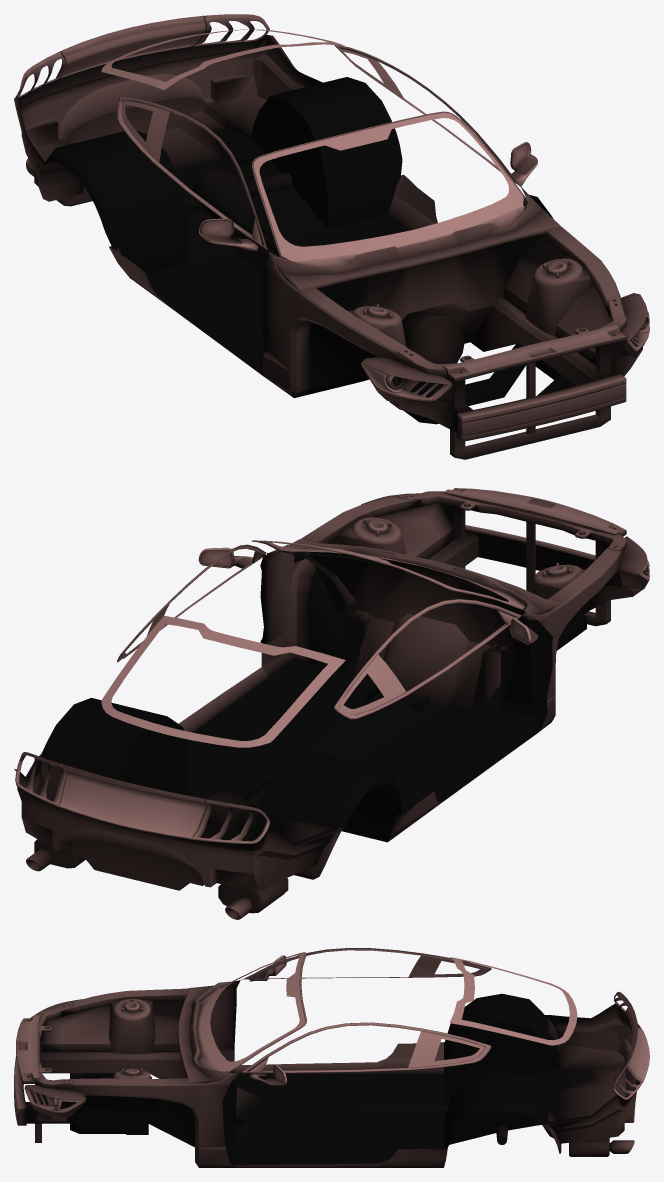
The model's file is Mustang16_Chassis_Trim.fbx.
The picture shows the model from 3 angles, top to bottom: view 1: azimuth 30°, elevation 25°; view 2: azimuth 150°, elevation 25°; view 3: azimuth 270°, elevation 25°; orthographic projection. The views are drawn at different scales.
Visible parts, largest first — view 1: Mustang16_Chassis_Trim; view 2: Mustang16_Chassis_Trim; view 3: Mustang16_Chassis_Trim.
Part boxes in pixels (box(x1,y1,x2,y2)): Mustang16_Chassis_Trim: box(14, 14, 649, 459); Mustang16_Chassis_Trim: box(14, 488, 649, 919); Mustang16_Chassis_Trim: box(14, 948, 649, 1167).
Bounding box in the file's own units: 207 × 113 × 459.
